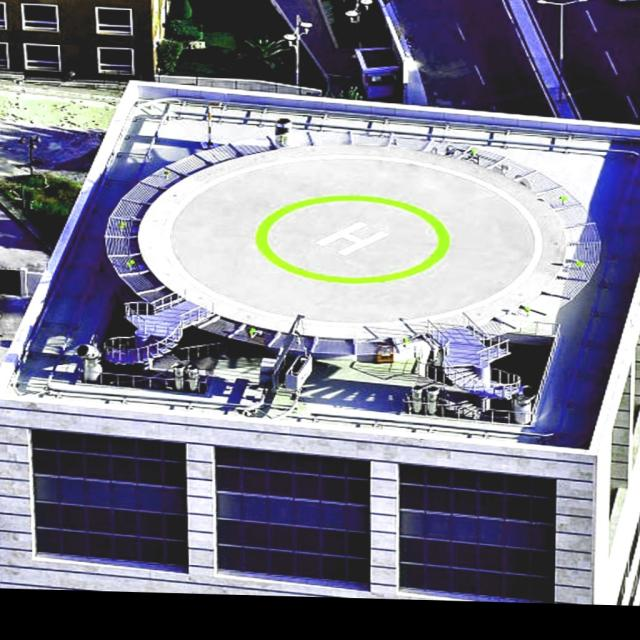helipad: (251, 188, 452, 286)
